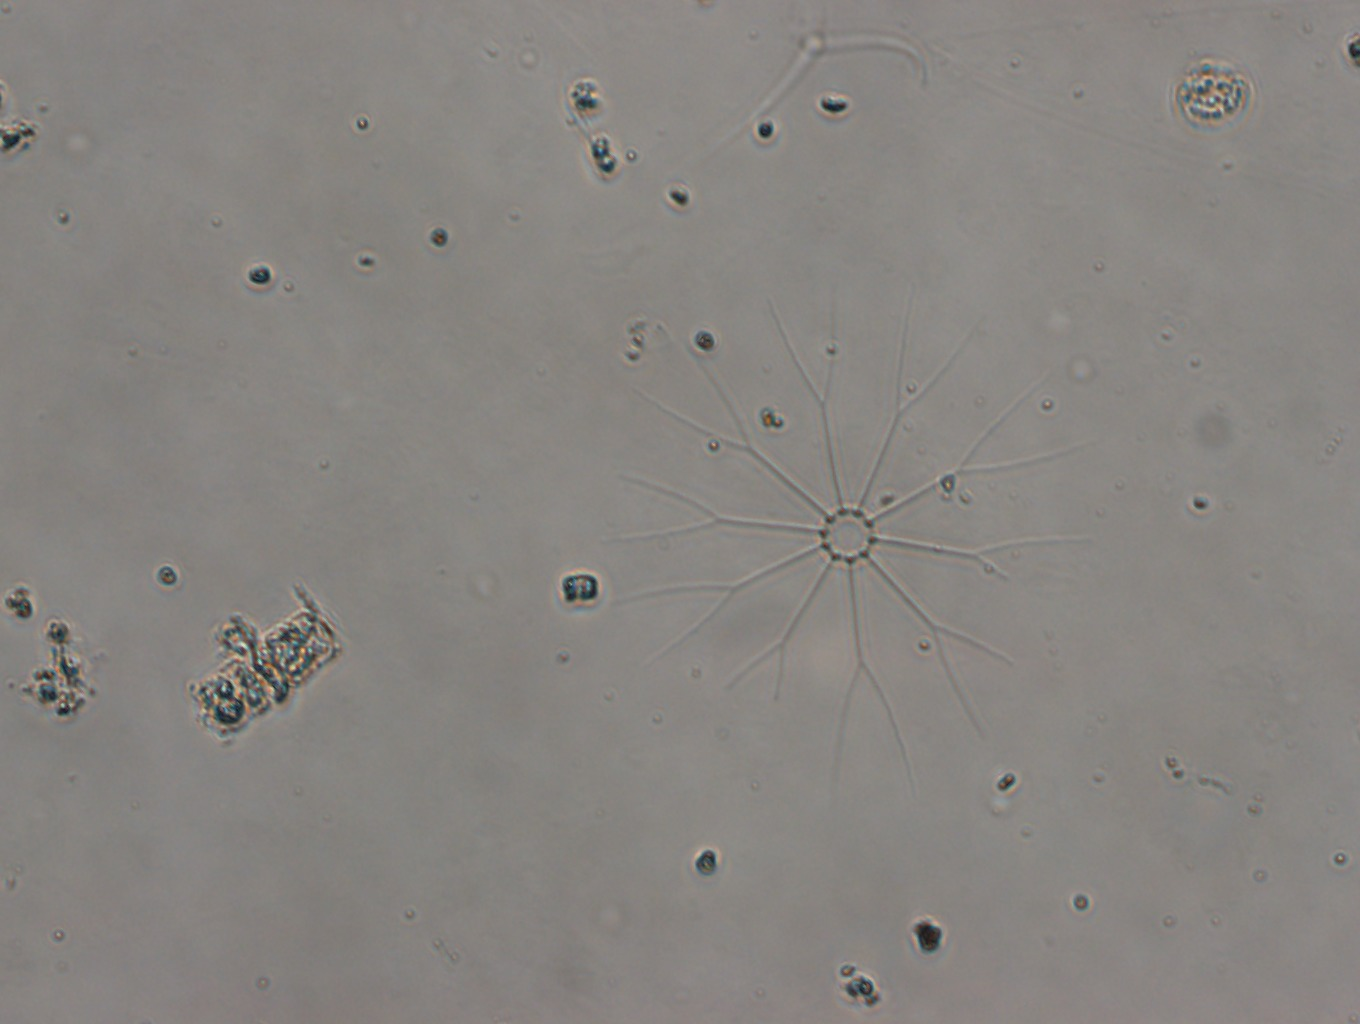bacteriastrum: (585, 281, 1094, 776)
